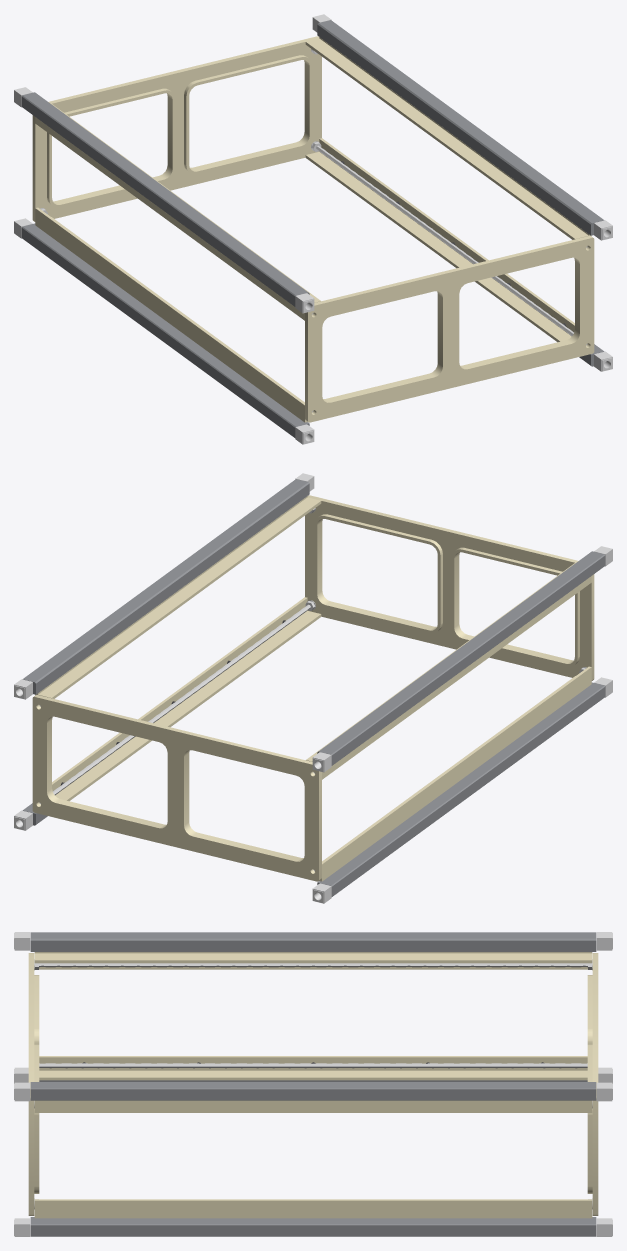
Rendered from frame_6u.glb.
3 views of the same model, one above another, from view 1: azimuth 30°, elevation 25°; view 2: azimuth 150°, elevation 25°; view 3: azimuth 270°, elevation 25° (orthographic). The views are drawn at different scales.
Visible parts, largest first — view 1: rails, frame_6u, end_frame_pz, end_frame_nz; view 2: rails, frame_6u, end_frame_nz, end_frame_pz; view 3: frame_6u, rails, end_frame_nz, end_frame_pz.
Part boxes in pixels (x1=…): rails: x1=14, y1=14, x2=612, y2=444; frame_6u: x1=35, y1=37, x2=591, y2=422; end_frame_pz: x1=305, y1=236, x2=594, y2=422; end_frame_nz: x1=32, y1=36, x2=321, y2=221; rails: x1=14, y1=473, x2=612, y2=903; frame_6u: x1=35, y1=496, x2=591, y2=881; end_frame_nz: x1=32, y1=695, x2=321, y2=881; end_frame_pz: x1=305, y1=495, x2=594, y2=680; frame_6u: x1=34, y1=952, x2=592, y2=1218; rails: x1=14, y1=932, x2=612, y2=1236; end_frame_nz: x1=587, y1=953, x2=598, y2=1215; end_frame_pz: x1=28, y1=953, x2=39, y2=1215.
Bounding box in the file's own units: 0.2263 × 0.1 × 0.366.
